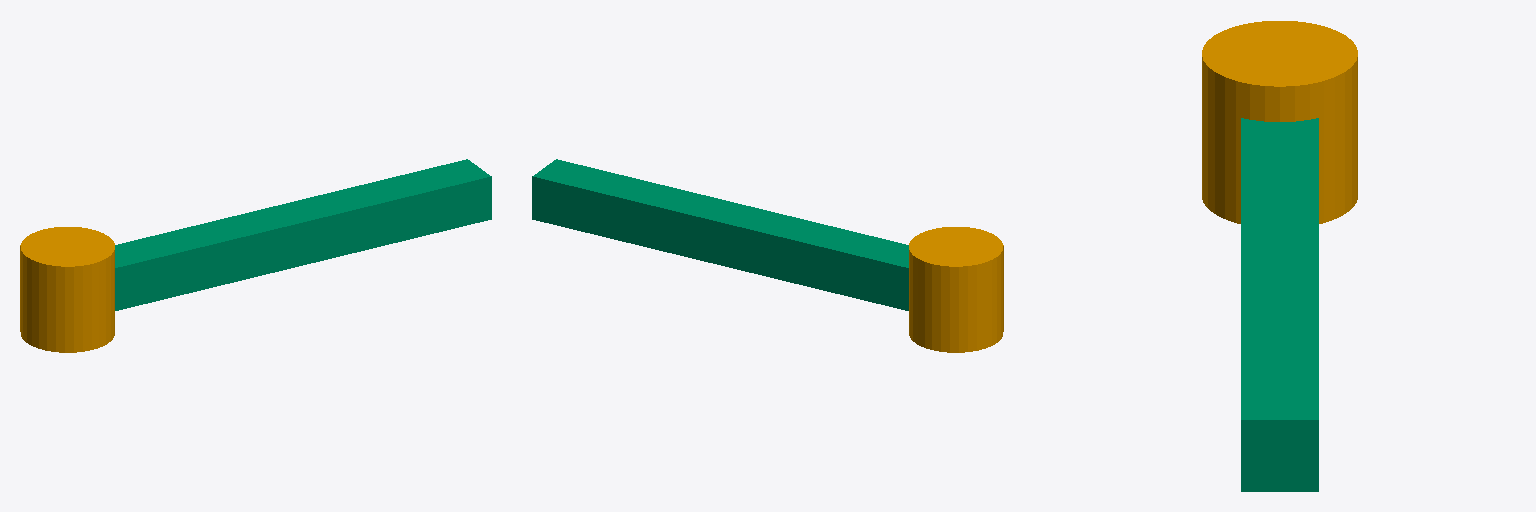
robot.urdf — simple_robot:
<?xml version="1.0"?>

<robot name="simple_robot">
  <link name="base_link">
    <visual>
      <geometry>
        <mesh filename="meshes/visual/base_link.obj" />
      </geometry>
    </visual>
  </link>

  <link name="link1">
    <visual>
      <geometry>
        <mesh filename="meshes/visual/link1.obj" />
      </geometry>
    </visual>
  </link>

  <link name="link2">
    <visual>
      <geometry>
        <mesh filename="meshes/visual/link2.obj" />
      </geometry>
    </visual>
  </link>

  <joint name="joint1" type="revolute">
    <parent link="base_link"/>
    <child link="link1"/>
    <axis xyz="0 0 1" />
    <limit lower="-1.57" upper="1.57" velocity="2.62" effort="50" />
  </joint>

  <joint name="joint2" type="revolute">
    <parent link="link1"/>
    <child link="link2"/>
    <axis xyz="0 0 1" />
    <limit lower="-1.57" upper="1.57" velocity="2.62" effort="50" />
  </joint>
</robot>

--- Facts derived from the render (not from the file) ---
3 views of the same robot in one strip: view 1: azimuth 30°, elevation 25°; view 2: azimuth 150°, elevation 25°; view 3: azimuth 270°, elevation 25° (orthographic).
Robot: simple_robot — 3 links, 2 joints (2 revolute); root link base_link; default pose: every joint at zero.
Links seen in each view (by area): view 1: link2, base_link; view 2: link2, base_link; view 3: link2, base_link.
Link boxes in pixels (x1=…): link2: x1=115, y1=159, x2=491, y2=310; base_link: x1=20, y1=227, x2=114, y2=352; link2: x1=532, y1=159, x2=908, y2=310; base_link: x1=909, y1=227, x2=1003, y2=352; link2: x1=1241, y1=118, x2=1318, y2=491; base_link: x1=1202, y1=21, x2=1357, y2=223.
Size in the robot's own frame: 0.55 by 0.1 by 0.1 metres.
2 mesh visuals loaded from 3 distinct referenced files (2 OBJ); not drawn: 1 (reference not matched to a file when rendering).